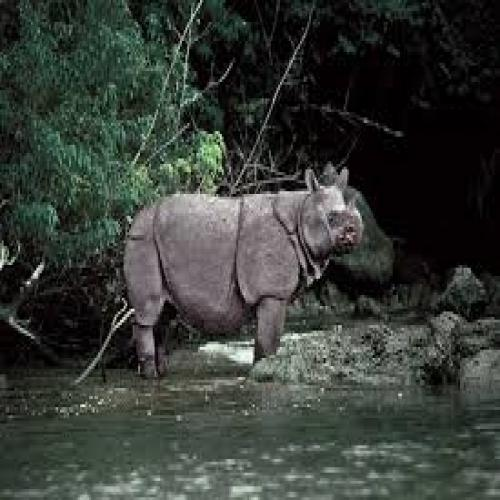rhino-endangered: (124, 165, 362, 376)
